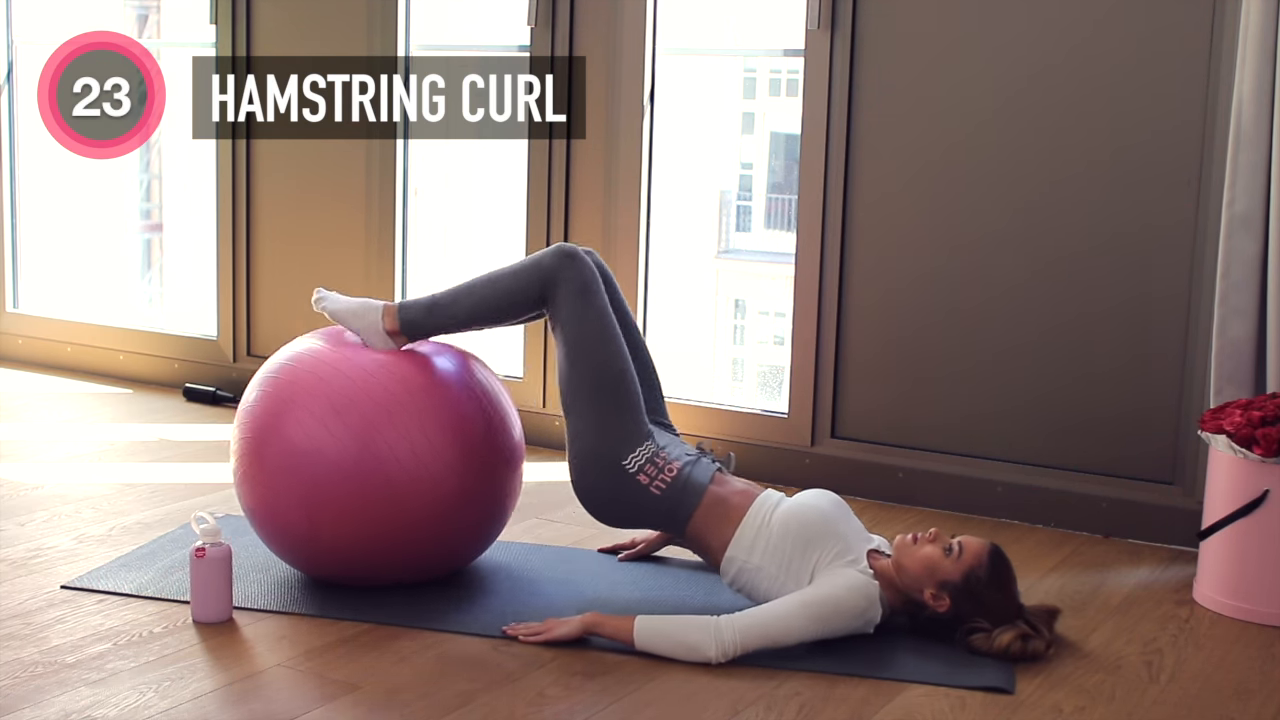yogaball: (224, 317, 534, 600)
